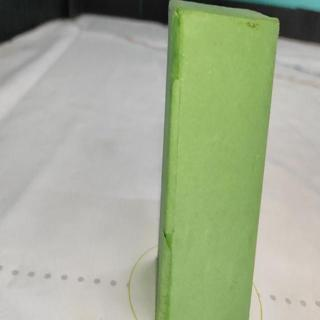greenbox: (156, 0, 280, 320)
